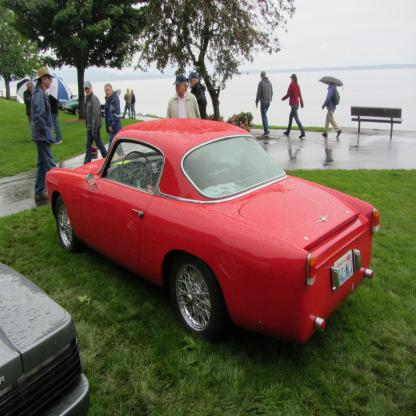Car: (43, 116, 379, 341), (0, 262, 91, 416), (62, 93, 107, 117)
